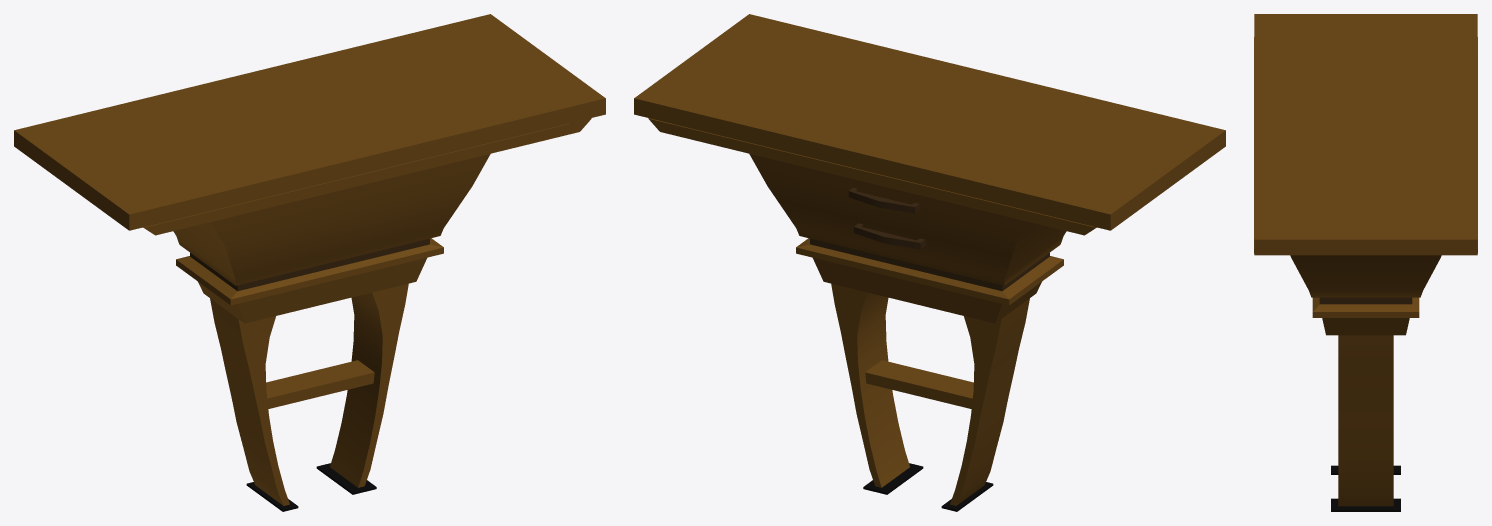
File: SM_Table.fbx
The picture shows the model from 3 angles, left to right: view 1: azimuth 30°, elevation 25°; view 2: azimuth 150°, elevation 25°; view 3: azimuth 270°, elevation 25°; orthographic projection. The views are drawn at different scales.
Parts seen in each view (by area): view 1: SM_Table; view 2: SM_Table; view 3: SM_Table.
Part boxes in pixels (x1,y1,x2,y2): SM_Table: (14,14,605,511); SM_Table: (634,14,1225,511); SM_Table: (1254,14,1477,511).
Size of the model in its own units: 203 by 152 by 85.25.
